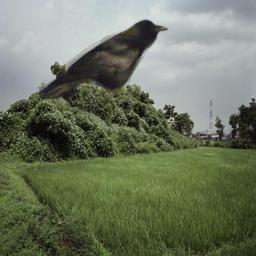Crow: (39, 18, 169, 99)
